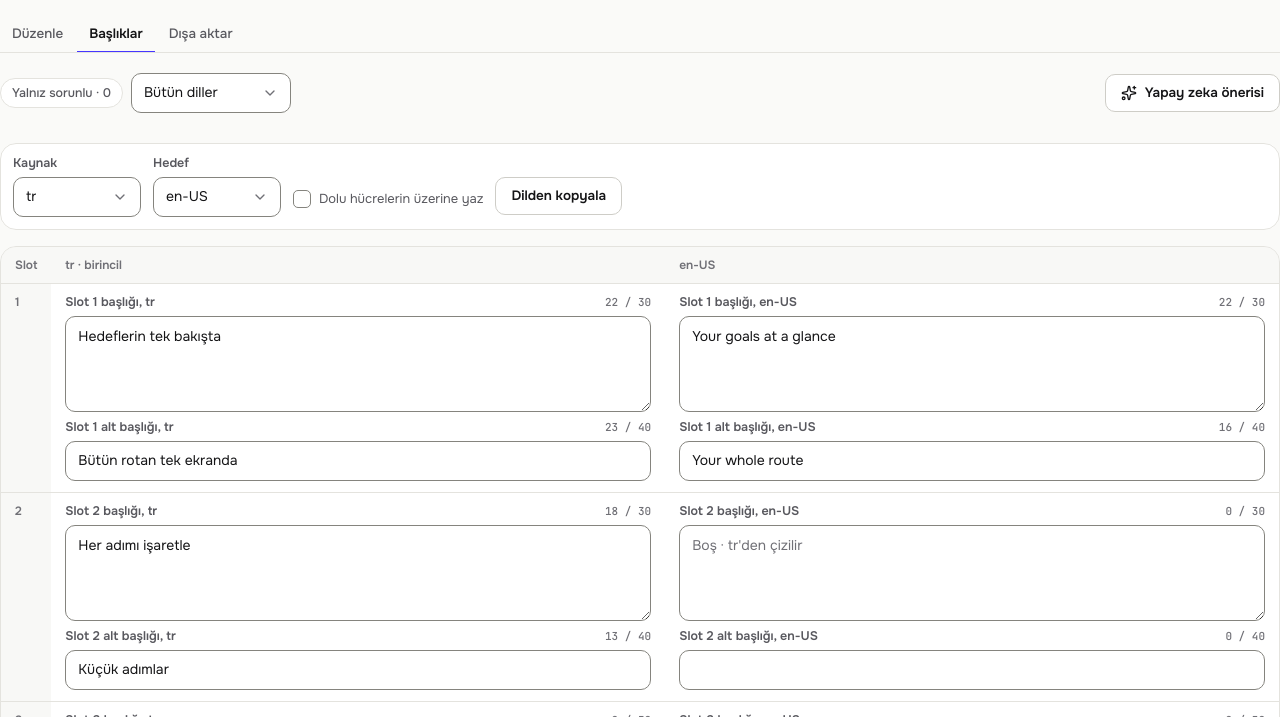
Test: template editor: captions › puts accepted AI suggestions into the grid as unsaved cells
Click the button "Yapay zeka önerisi". click: coordinates (1192, 93)
box: [1105, 74, 1279, 112]
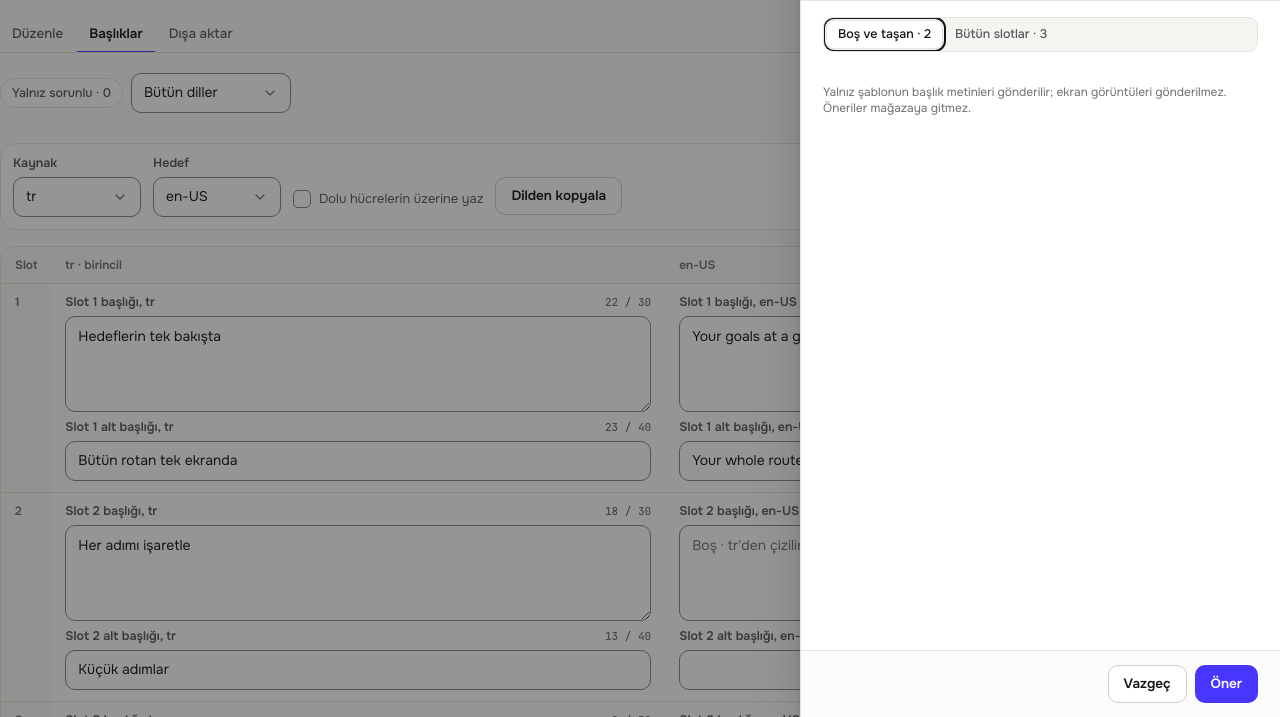
Click the button "Öner". click: coordinates (1226, 684)
box: [1194, 665, 1258, 703]
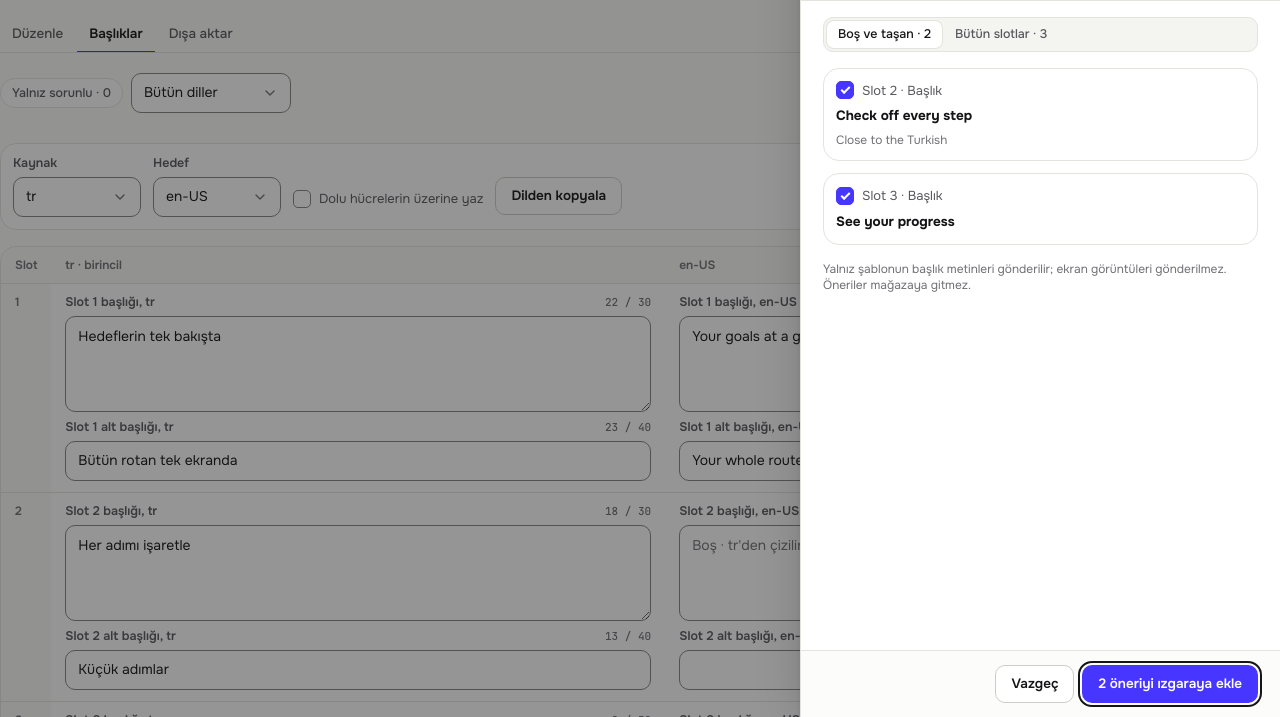
Click the checkbox labelled "Slot 3 · Başlık". click: coordinates (889, 196)
box: [836, 187, 943, 205]
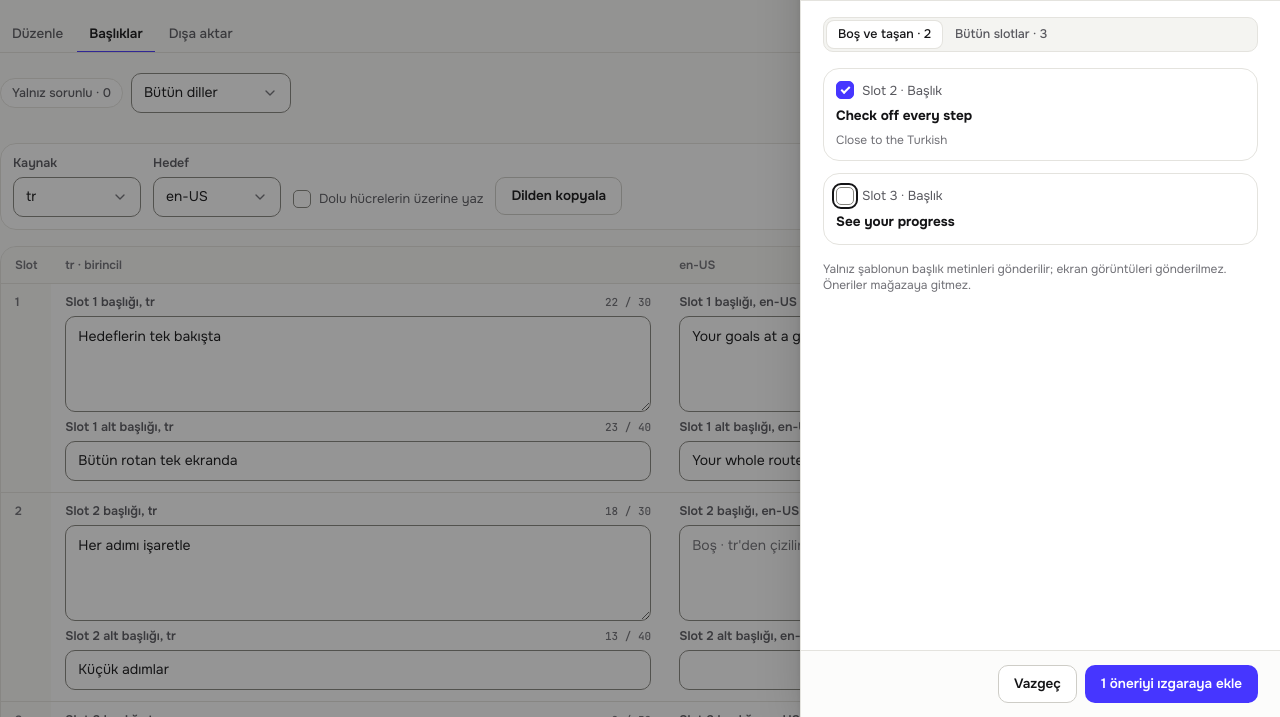
Click the button "1 öneriyi ızgaraya ekle". click: coordinates (1171, 684)
box: [1085, 665, 1258, 703]
(page scrolled)
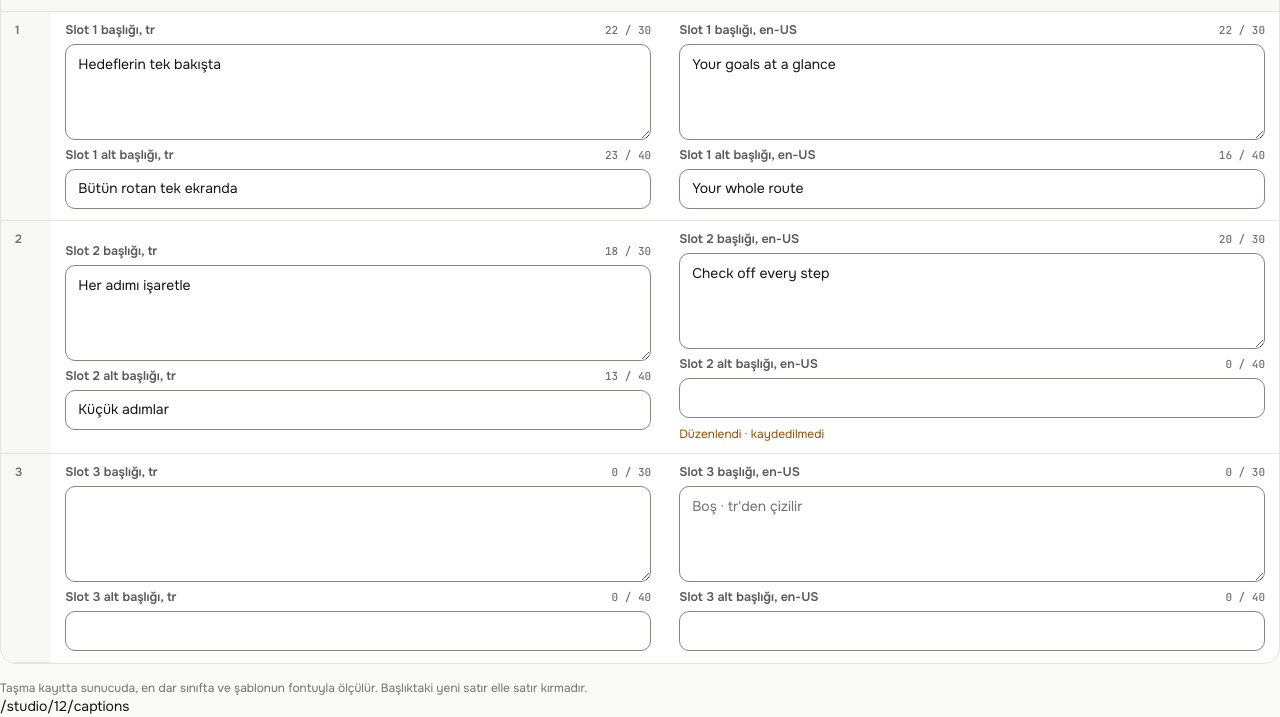
Check: the text box labelled "Slot 3 başlığı, en-US" is empty, box [679, 486, 1265, 582]
Check: the text box labelled "Slot 2 başlığı, en-US" holds "Check off every step", box [679, 253, 1265, 349]
